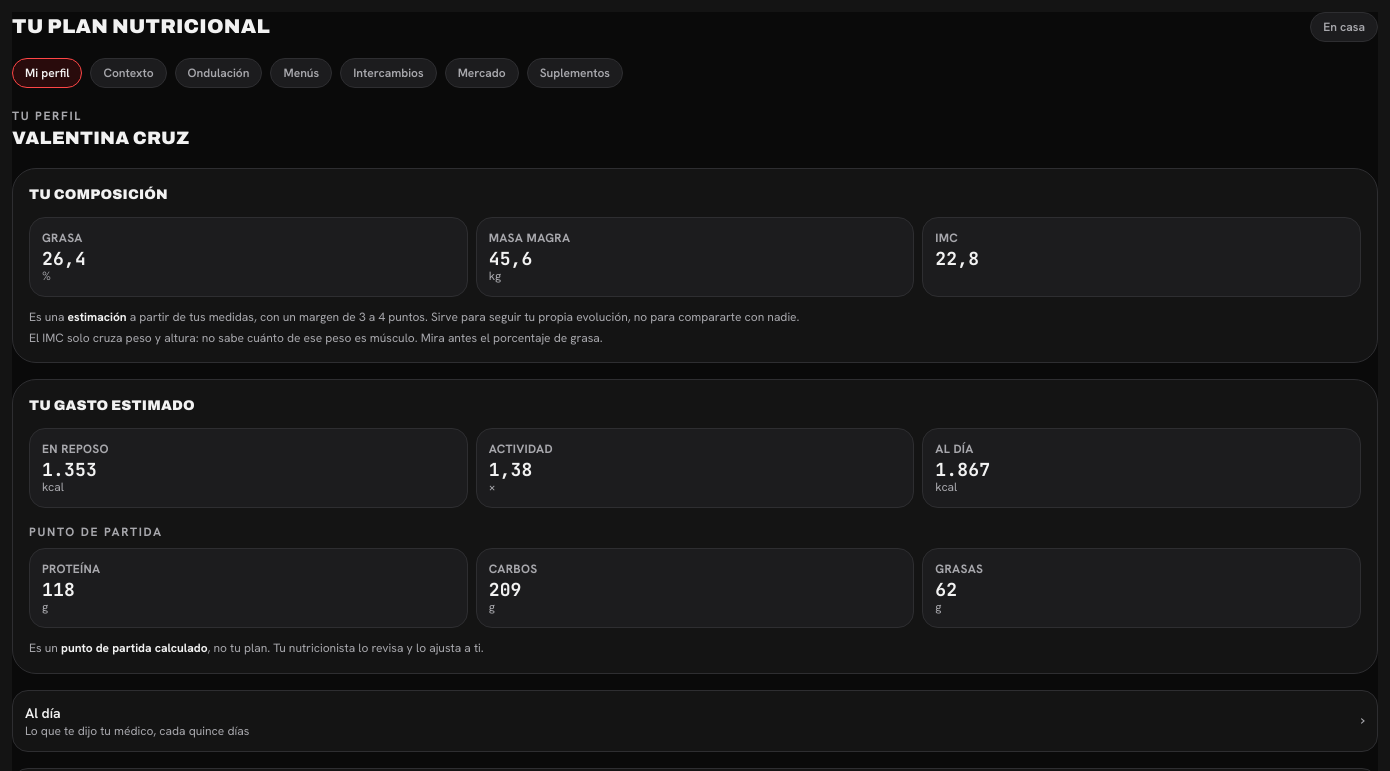
MiPlan › avisa de que el peso se pesa en el estado que dice la etiqueta
Click the button "Menús".
click(301, 73)  # box top-left (270, 58), bottom-right (332, 88)
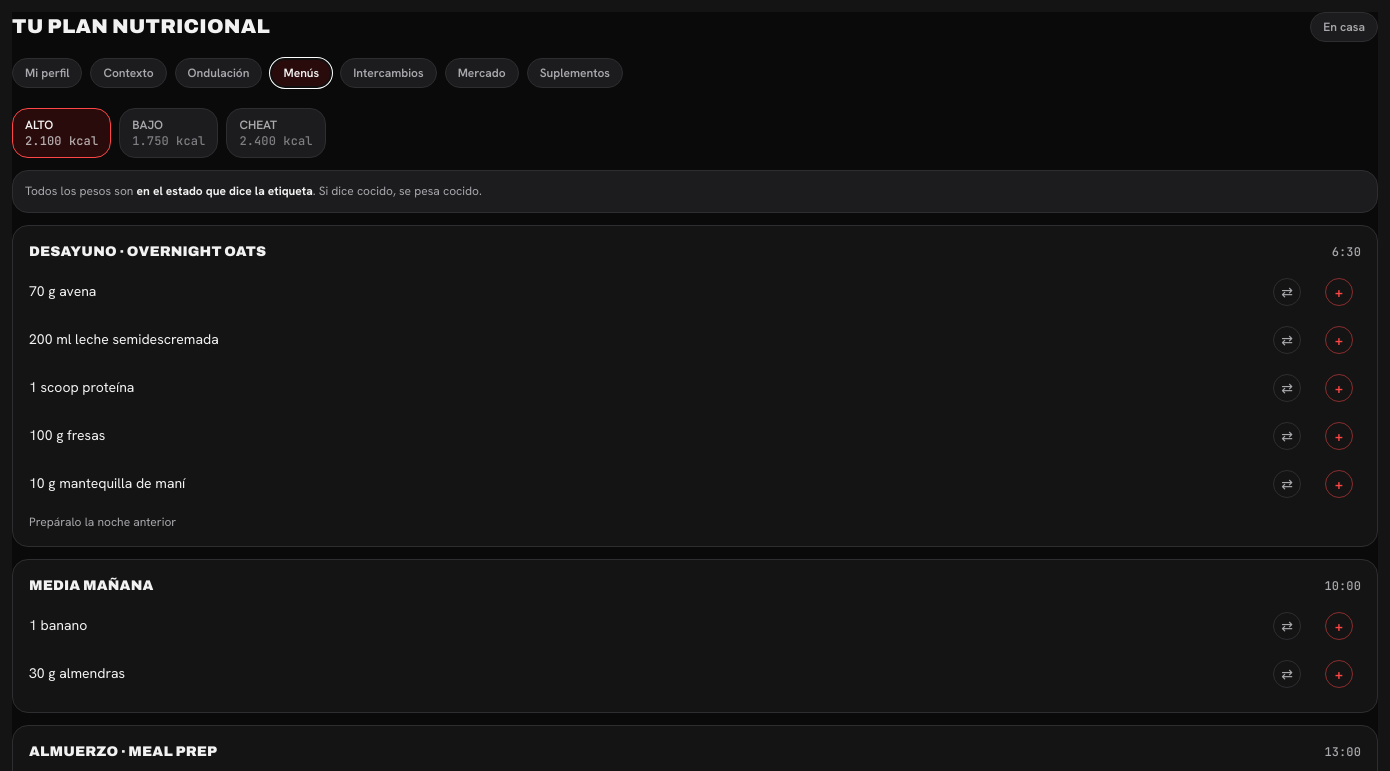
Expected: the text "si dice cocido, se pesa cocido" is shown, top-left (313, 183), bottom-right (482, 199)
